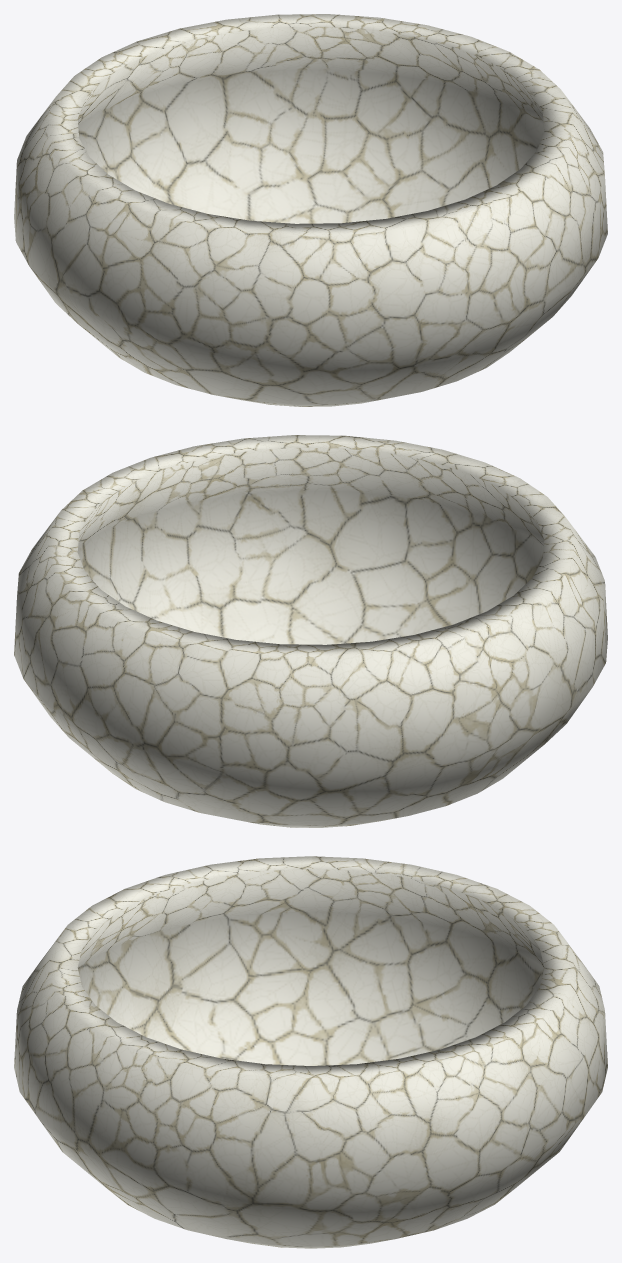
Rendered from ciotola.fbx.
3 renders of one model, top to bottom at view 1: azimuth 30°, elevation 25°; view 2: azimuth 150°, elevation 25°; view 3: azimuth 270°, elevation 25°, orthographic.
Parts seen in each view (by area): view 1: ciotola; view 2: ciotola; view 3: ciotola.
Part boxes in pixels (x1,y1,x2,y2): ciotola: [14, 14, 607, 406]; ciotola: [14, 435, 607, 827]; ciotola: [14, 856, 607, 1248].
Bounding box in the file's own units: 16.97 × 7.41 × 16.97.
